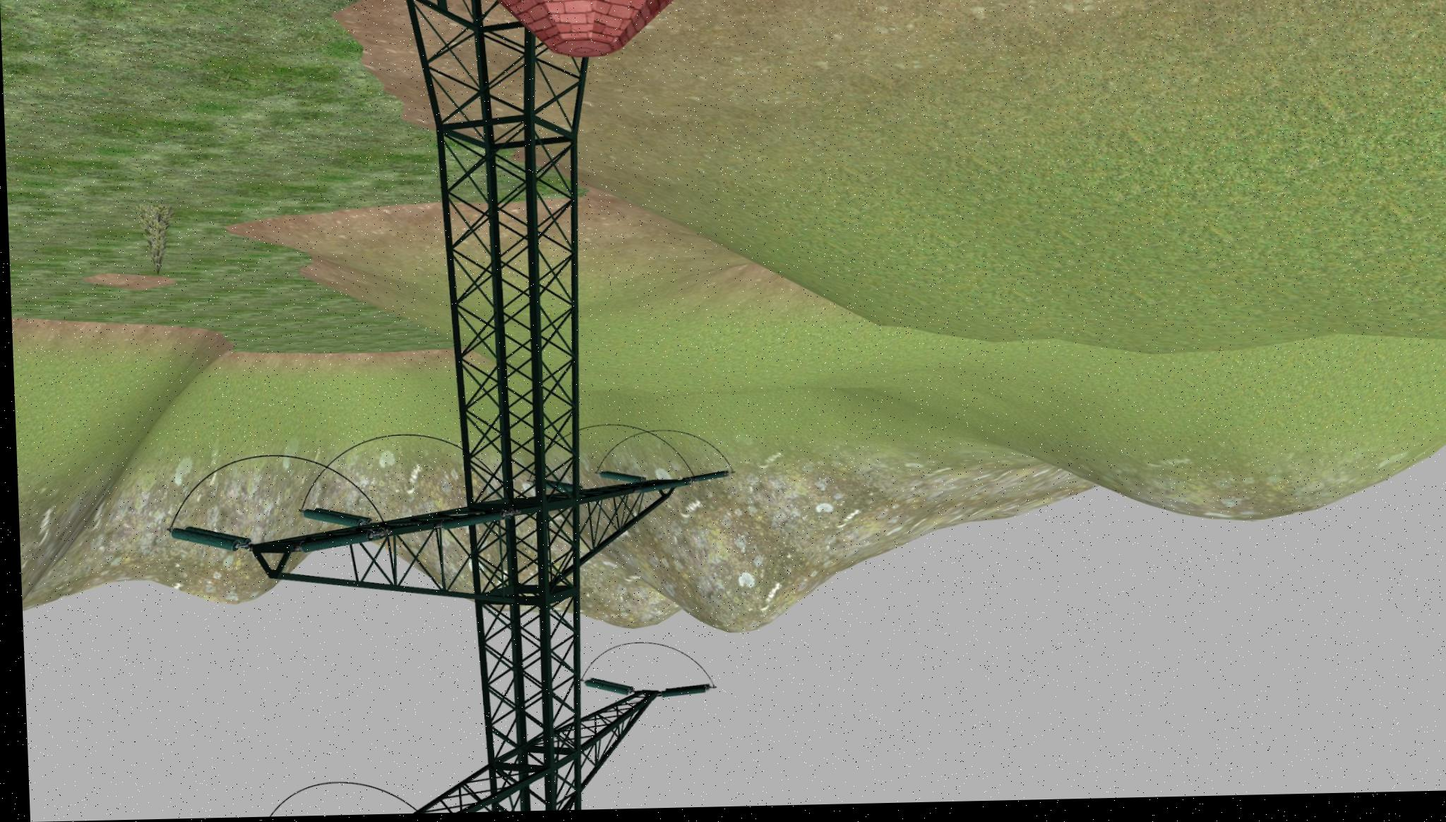tower: (217, 0, 691, 817)
